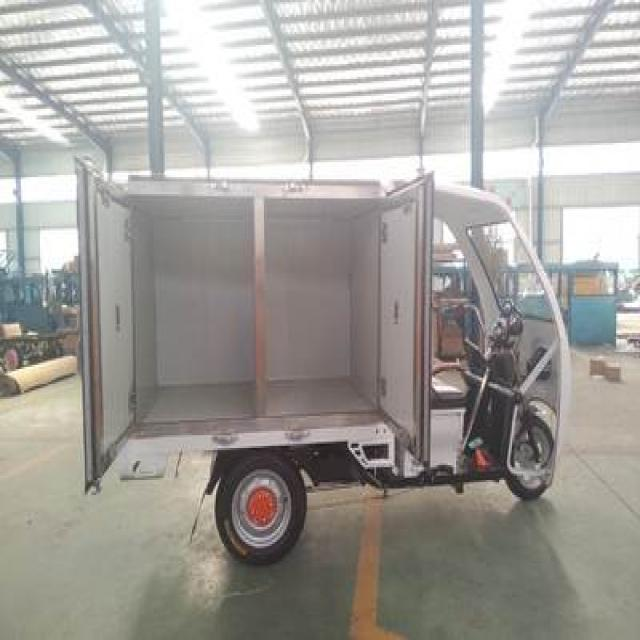tricycle: (67, 150, 568, 566)
